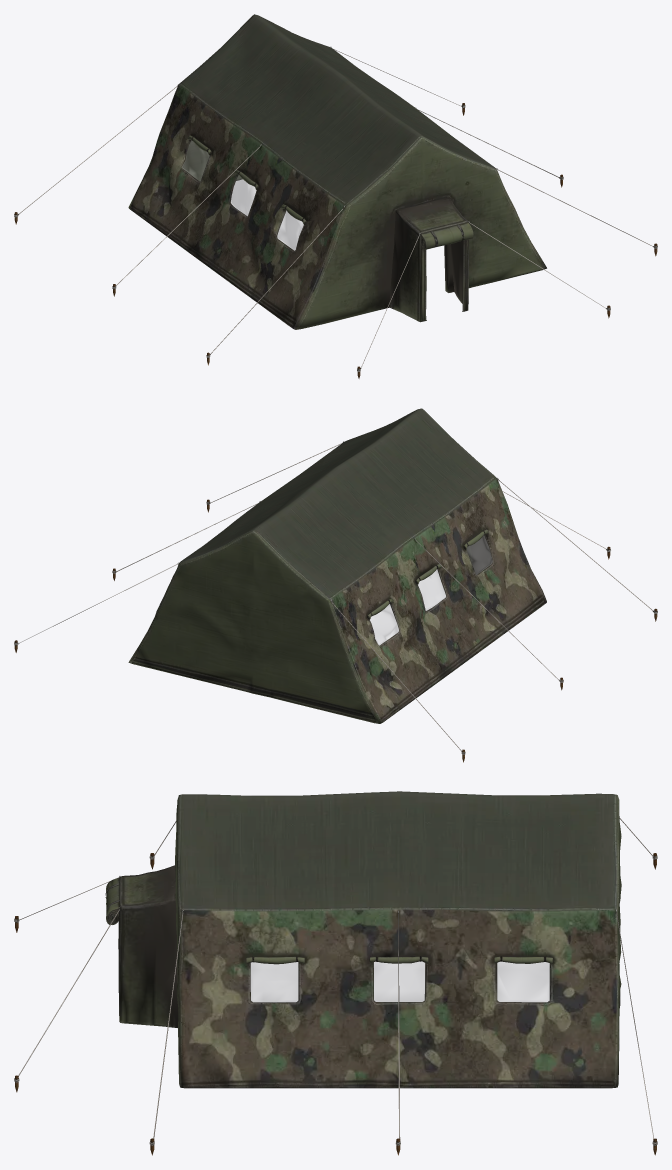
The model's file is tent.glb.
3 views of the same model, one above another, from view 1: azimuth 30°, elevation 25°; view 2: azimuth 150°, elevation 25°; view 3: azimuth 270°, elevation 25° (orthographic). The views are drawn at different scales.
Visible parts, largest first — view 1: Military_tent_01_0, Military_tent_Glass_0; view 2: Military_tent_01_0, Military_tent_Glass_0; view 3: Military_tent_01_0, Military_tent_Glass_0.
Part boxes in pixels (<box>): Military_tent_01_0: <box>14,14,657,378</box>; Military_tent_Glass_0: <box>182,140,303,250</box>; Military_tent_01_0: <box>14,408,657,762</box>; Military_tent_Glass_0: <box>370,535,492,645</box>; Military_tent_01_0: <box>14,791,657,1155</box>; Military_tent_Glass_0: <box>251,961,549,1002</box>.
Size of the model in its own units: 11.17 by 4 by 10.55.
Materials: 2 (1 with a texture image).
